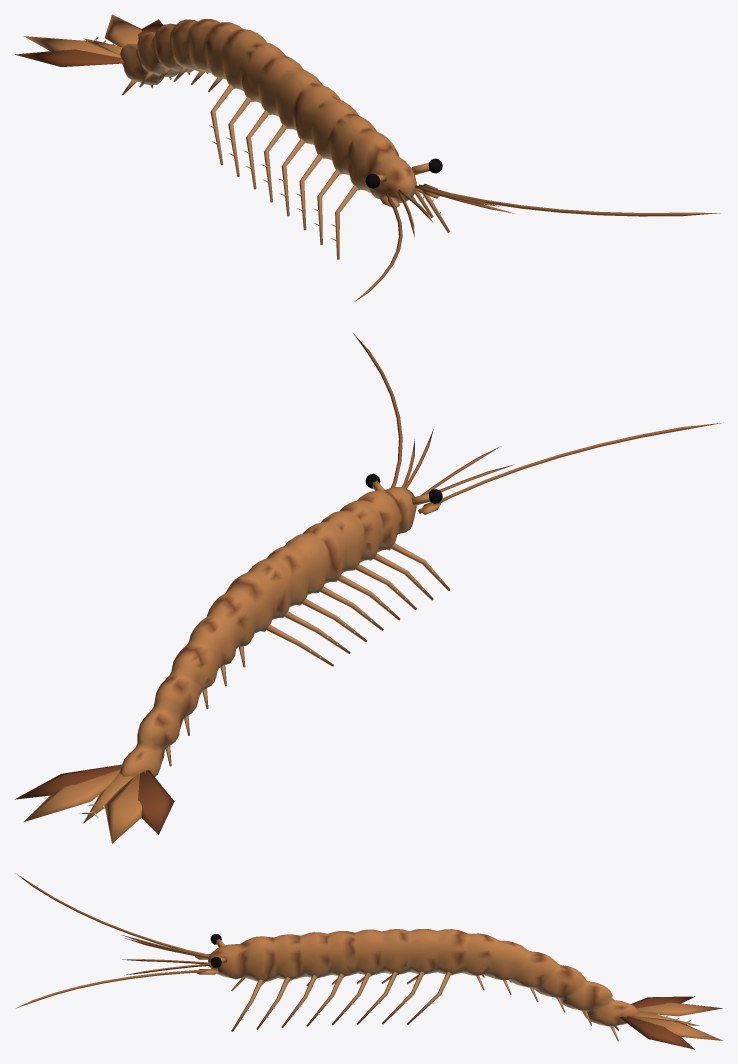
The model's file is Acanthotelson.fbx.
The picture shows the model from 3 angles, top to bottom: view 1: azimuth 30°, elevation 25°; view 2: azimuth 150°, elevation 25°; view 3: azimuth 270°, elevation 25°; orthographic projection. The views are drawn at different scales.
Parts seen in each view (by area): view 1: Acanthotelson; view 2: Acanthotelson; view 3: Acanthotelson.
Part boxes in pixels (box(x1,y1,x2,y2)): Acanthotelson: box(15, 14, 720, 302); Acanthotelson: box(14, 333, 723, 843); Acanthotelson: box(15, 873, 723, 1049).
Bounding box in the file's own units: 0.9048 × 0.3282 × 1.98.
